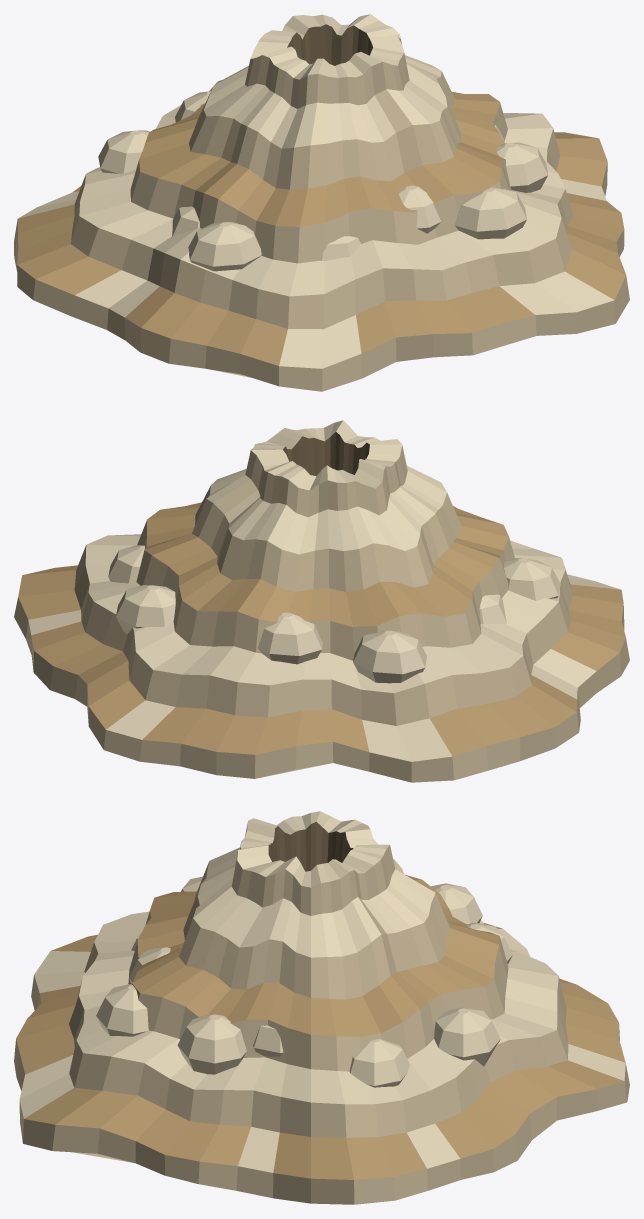
Rendered from geyser-sinter-cone.glb.
The picture shows the model from 3 angles, top to bottom: view 1: azimuth 30°, elevation 25°; view 2: azimuth 150°, elevation 25°; view 3: azimuth 270°, elevation 25°; orthographic projection. The views are drawn at different scales.
Visible parts, largest first — view 1: solid_irregular_sinter_cone_open_narrow_vent_throat, integrated_bulbous_geyserite_crust; view 2: solid_irregular_sinter_cone_open_narrow_vent_throat, integrated_bulbous_geyserite_crust; view 3: solid_irregular_sinter_cone_open_narrow_vent_throat, integrated_bulbous_geyserite_crust.
Part boxes in pixels (bbox=[...]): solid_irregular_sinter_cone_open_narrow_vent_throat: bbox=[14, 14, 629, 391]; integrated_bulbous_geyserite_crust: bbox=[98, 91, 548, 271]; solid_irregular_sinter_cone_open_narrow_vent_throat: bbox=[14, 420, 629, 782]; integrated_bulbous_geyserite_crust: bbox=[108, 545, 560, 683]; solid_irregular_sinter_cone_open_narrow_vent_throat: bbox=[14, 811, 629, 1204]; integrated_bulbous_geyserite_crust: bbox=[96, 876, 512, 1087].
Bounding box in the file's own units: 3.5 × 1.29 × 3.15.
